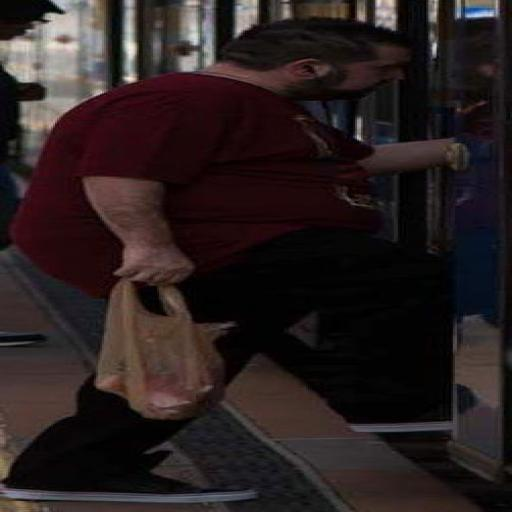person: (15, 19, 452, 385), (0, 64, 44, 247)
